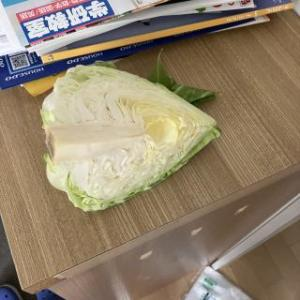cabbage: (38, 48, 220, 214)
